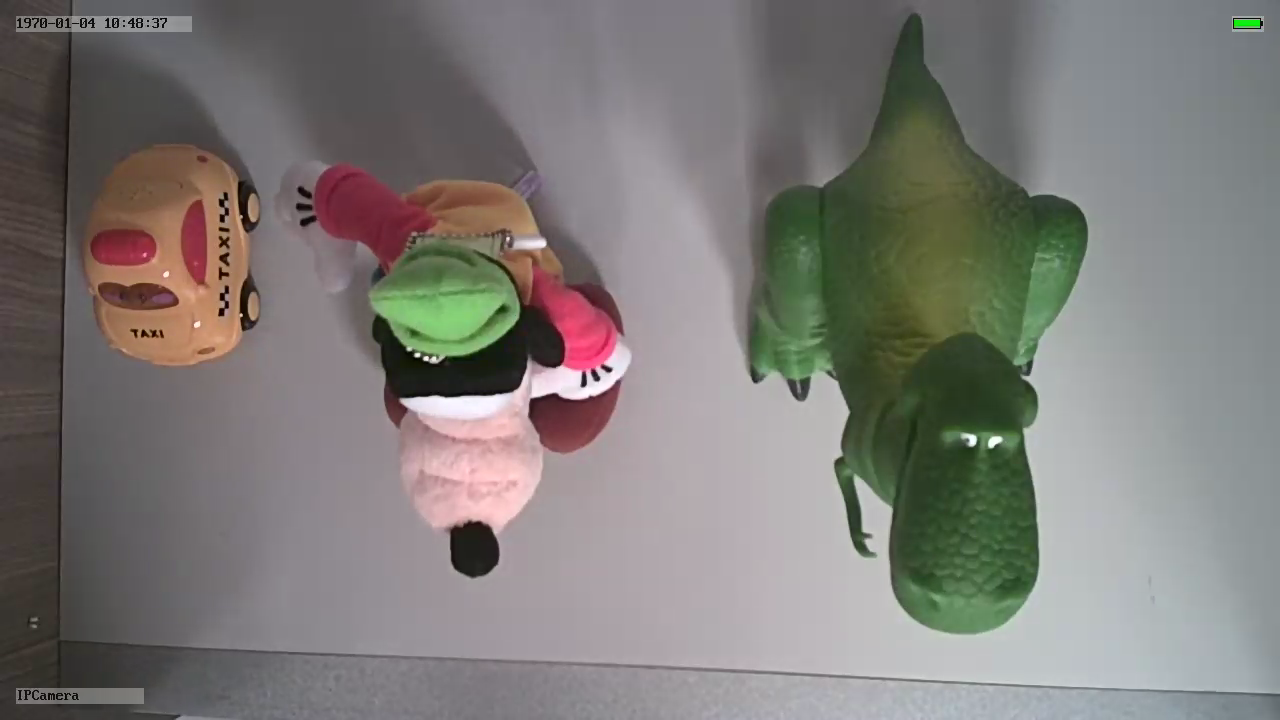goofy: (270, 157, 633, 586)
